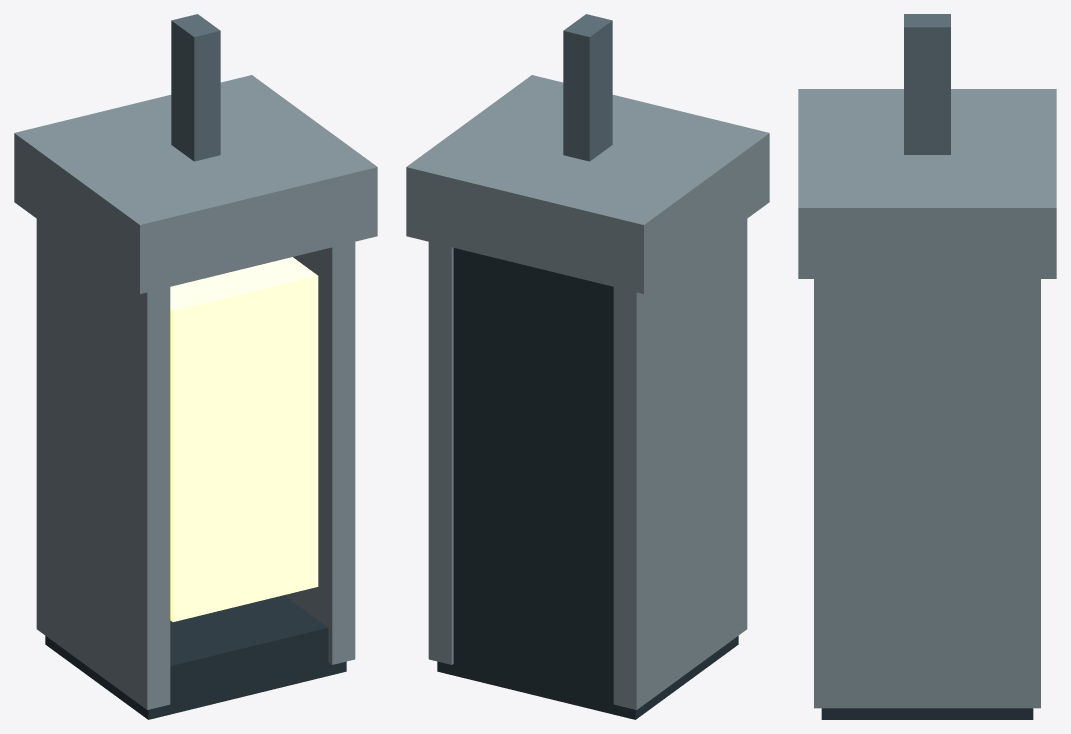
The model's file is lantern.glb.
3 renders of one model, left to right at view 1: azimuth 30°, elevation 25°; view 2: azimuth 150°, elevation 25°; view 3: azimuth 270°, elevation 25°, orthographic. The views are drawn at different scales.
Parts seen in each view (by area): view 1: Lantern edge, Lantern cap, Lantern glass, Lantern edge.001, Lantern base, Lantern handle; view 2: Lantern back, Lantern edge, Lantern cap, Lantern edge.001, Lantern handle, Lantern base; view 3: Lantern edge.001, Lantern cap, Lantern handle, Lantern base.
Part boxes in pixels (bbox=[...]): Lantern edge: bbox=[36, 219, 170, 709]; Lantern cap: bbox=[14, 75, 377, 293]; Lantern glass: bbox=[170, 257, 318, 621]; Lantern edge.001: bbox=[284, 242, 355, 664]; Lantern base: bbox=[45, 595, 346, 719]; Lantern handle: bbox=[171, 14, 220, 161]; Lantern back: bbox=[453, 248, 613, 702]; Lantern edge: bbox=[613, 219, 747, 709]; Lantern cap: bbox=[406, 75, 769, 293]; Lantern edge.001: bbox=[428, 242, 453, 664]; Lantern handle: bbox=[563, 14, 612, 161]; Lantern base: bbox=[437, 636, 738, 719]; Lantern edge.001: bbox=[814, 279, 1040, 708]; Lantern cap: bbox=[798, 89, 1056, 278]; Lantern handle: bbox=[904, 14, 950, 154]; Lantern base: bbox=[821, 708, 1033, 719].
Size of the model in its own units: 0.36 by 0.915 by 0.33.
